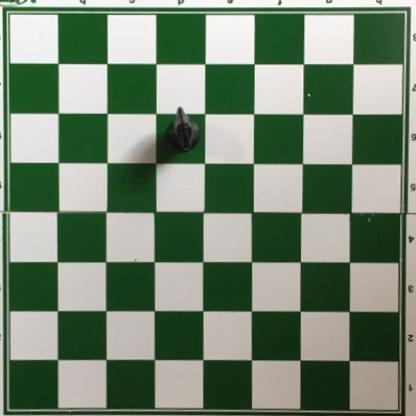black-knight: (165, 106, 201, 155)
